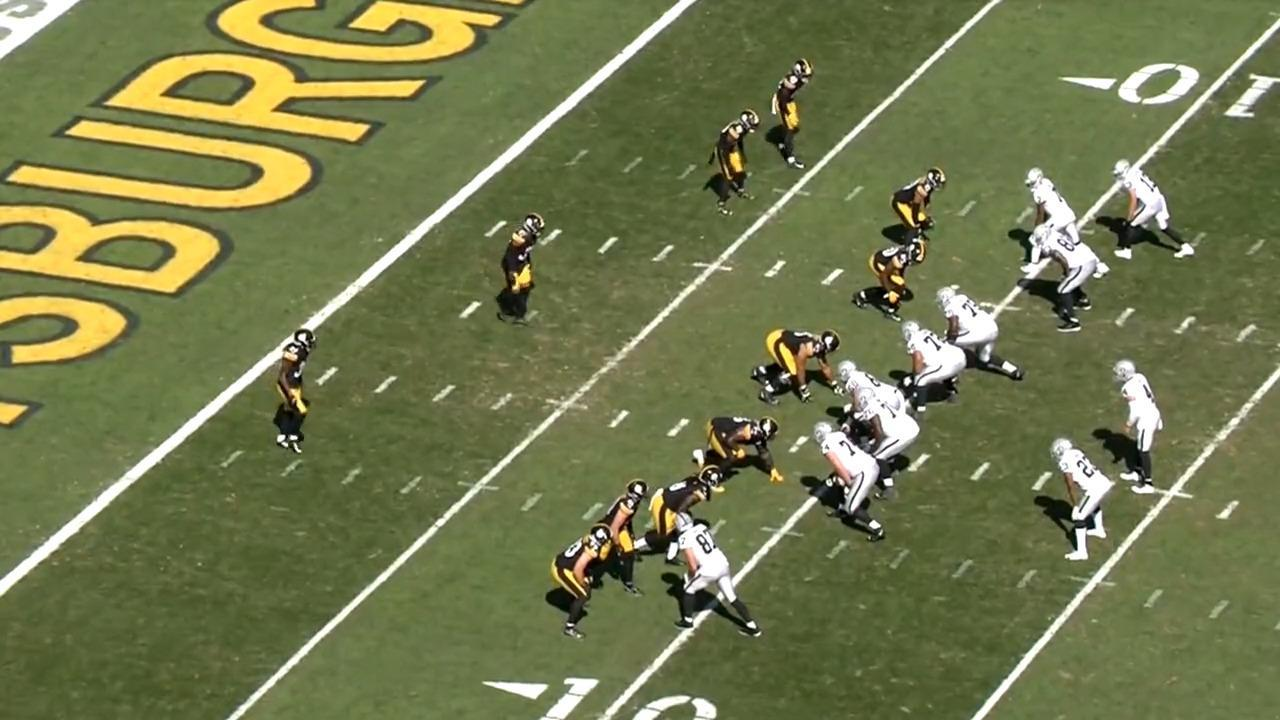defense: (622, 463, 727, 562), (587, 474, 662, 593), (685, 413, 784, 496), (264, 319, 318, 459), (752, 326, 846, 406), (847, 233, 927, 324), (551, 529, 612, 646), (762, 54, 813, 176), (499, 211, 550, 332), (886, 166, 950, 257), (707, 105, 759, 216)
oline: (939, 283, 1028, 391), (814, 417, 889, 545), (856, 390, 919, 493), (905, 321, 970, 418), (834, 357, 903, 417)
qb: (1111, 357, 1166, 499)
skill: (675, 516, 766, 646), (1107, 158, 1197, 269), (1017, 164, 1097, 284), (1035, 221, 1106, 340), (1052, 434, 1116, 564)
